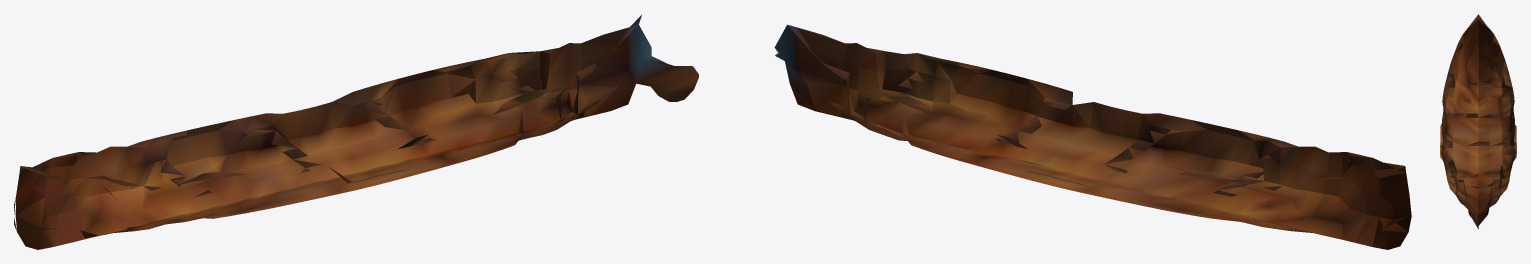
The model's file is canoa_ps1.glb.
The picture shows the model from 3 angles, left to right: view 1: azimuth 30°, elevation 25°; view 2: azimuth 150°, elevation 25°; view 3: azimuth 270°, elevation 25°; orthographic projection. The views are drawn at different scales.
Parts seen in each view (by area): view 1: geometry_0; view 2: geometry_0; view 3: geometry_0.
Boxes of the visible parts, bbox=[...] form: geometry_0: bbox=[14, 15, 698, 249]; geometry_0: bbox=[774, 24, 1411, 249]; geometry_0: bbox=[1440, 14, 1516, 229].
Bounding box in the file's own units: 12.89 × 1.74 × 2.23.
